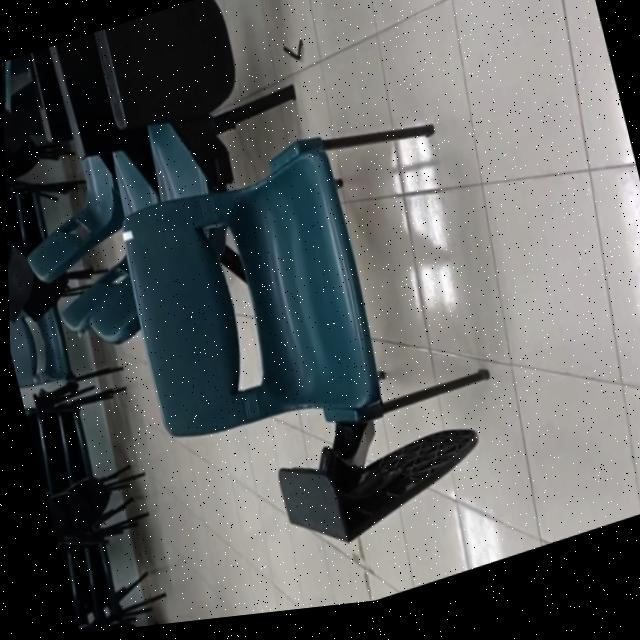sandalye: (121, 135, 485, 440), (7, 307, 68, 388)
